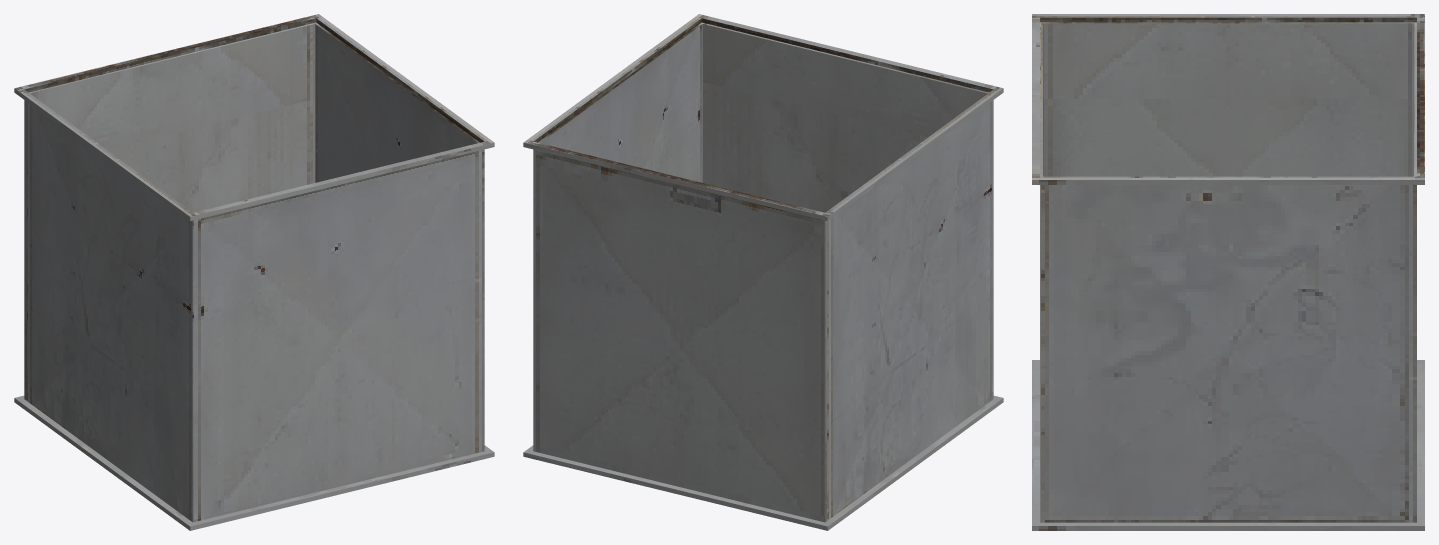
File: vent_straight_double.glb
3 views of the same model, side by side, from view 1: azimuth 30°, elevation 25°; view 2: azimuth 150°, elevation 25°; view 3: azimuth 270°, elevation 25° (orthographic). The views are drawn at different scales.
Parts seen in each view (by area): view 1: straight_double; view 2: straight_double; view 3: straight_double.
Boxes of the visible parts, <box> form: straight_double: <box>14,14,494,530</box>; straight_double: <box>523,14,1003,530</box>; straight_double: <box>1032,14,1424,530</box>.
Bounding box in the file's own units: 1.04 × 1.03 × 1.04.
1 material, 1 textured.
